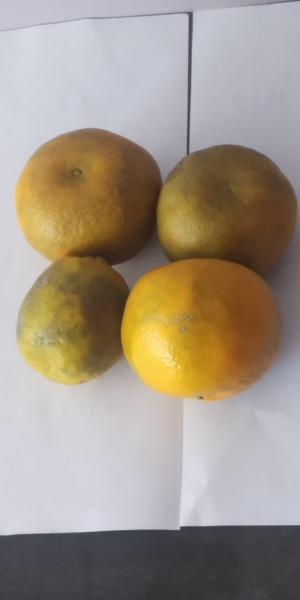BAD: (126, 256, 282, 400), (15, 126, 161, 269), (163, 143, 290, 277), (16, 258, 129, 386)
